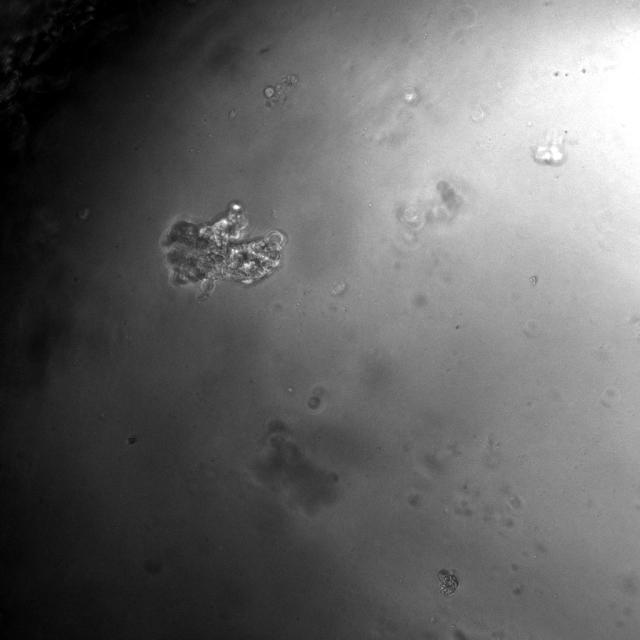organoid: (162, 200, 286, 301), (264, 75, 298, 106), (438, 569, 458, 597)
